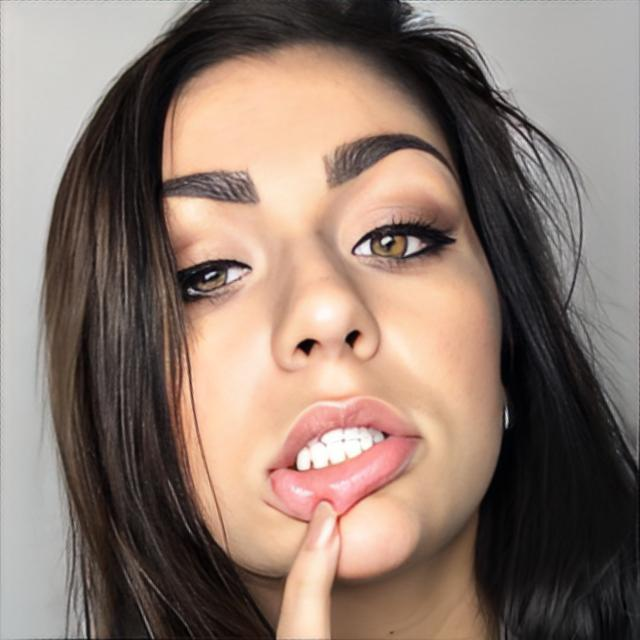disgust: (154, 38, 506, 584)
